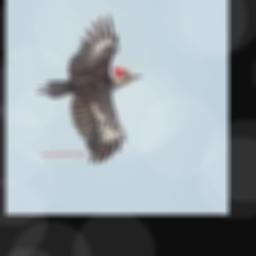Woodpecker: (35, 12, 140, 162)
